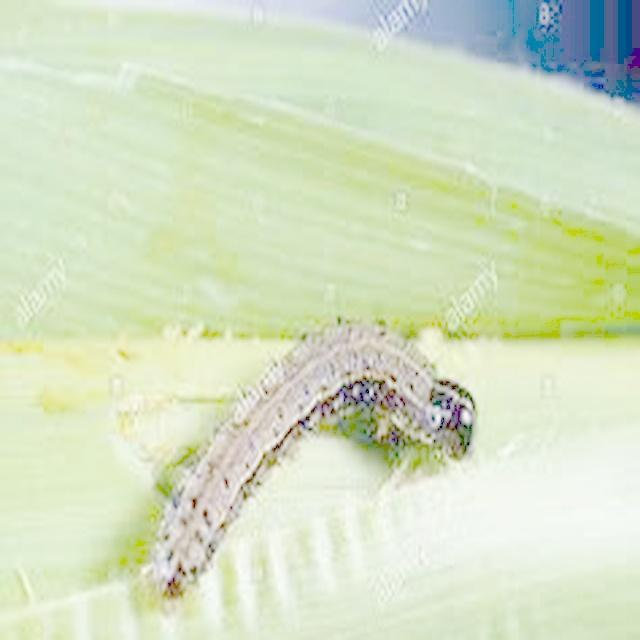Plaga: (149, 325, 481, 603)
